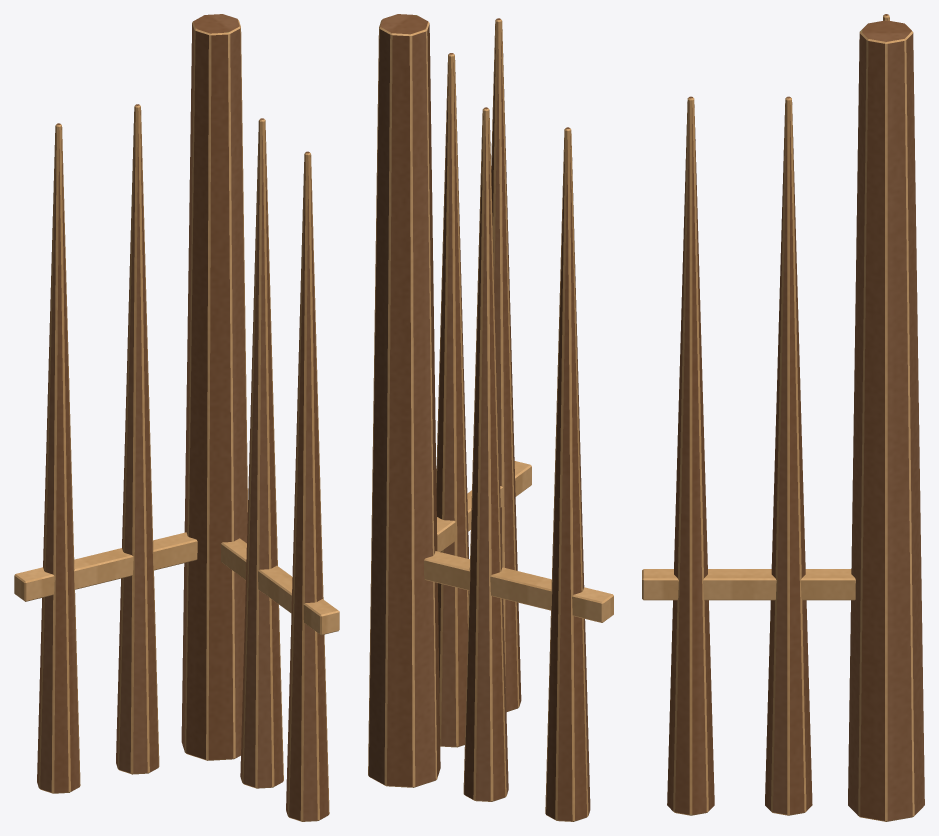
The model's file is sm_palisade_corner.glb.
3 renders of one model, left to right at view 1: azimuth 30°, elevation 25°; view 2: azimuth 150°, elevation 25°; view 3: azimuth 270°, elevation 25°, orthographic. The views are drawn at different scales.
Visible parts, largest first — view 1: sm_palisade_corner; view 2: sm_palisade_corner; view 3: sm_palisade_corner.
Boxes of the visible parts, box(x1,y1,x2,y2) form: sm_palisade_corner: box(14, 14, 339, 821); sm_palisade_corner: box(368, 14, 613, 821); sm_palisade_corner: box(642, 14, 924, 821).
Bounding box in the file's own units: 0.5788 × 1.75 × 0.5788.
Materials: 1 (1 with a texture image).
